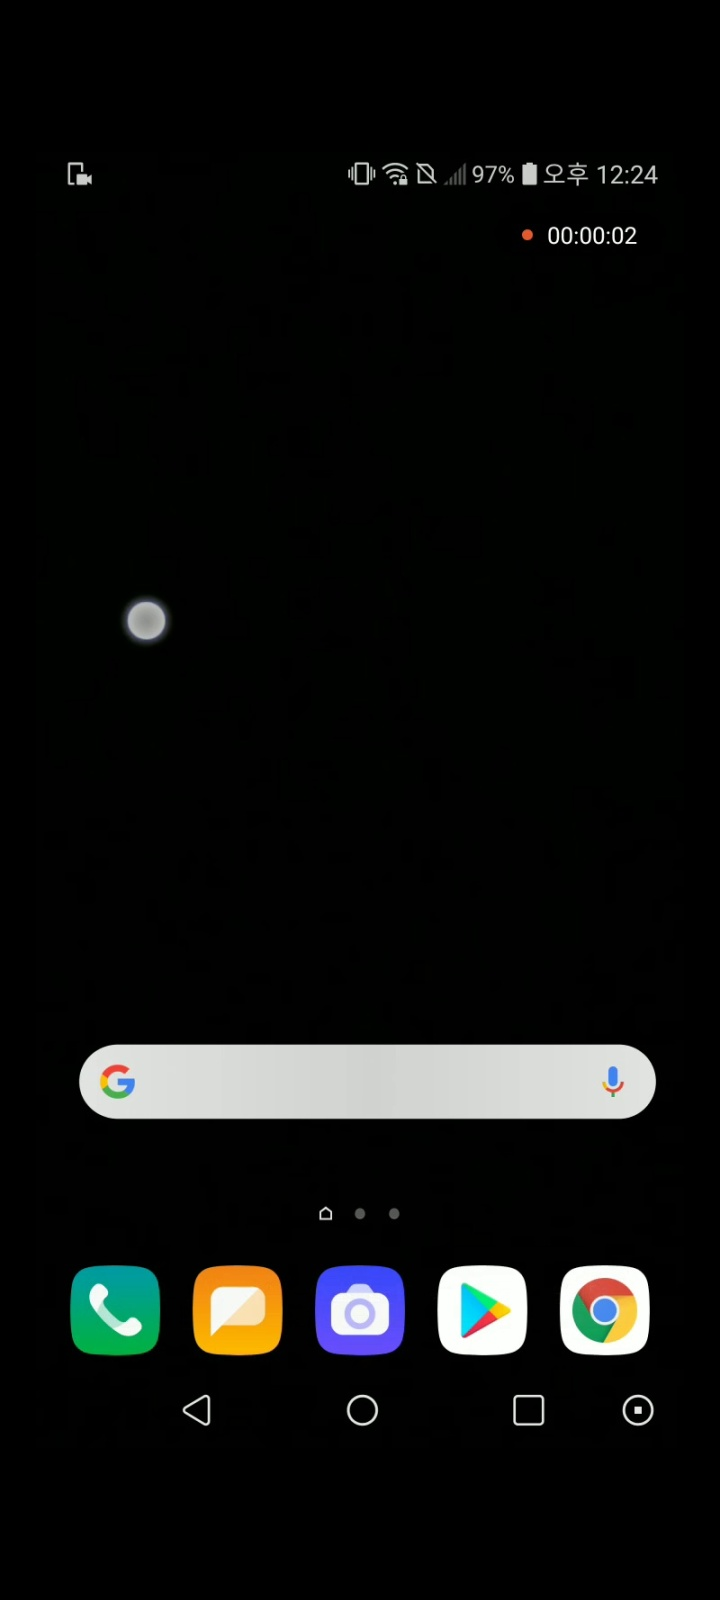Cursor: (126, 599, 171, 644)
